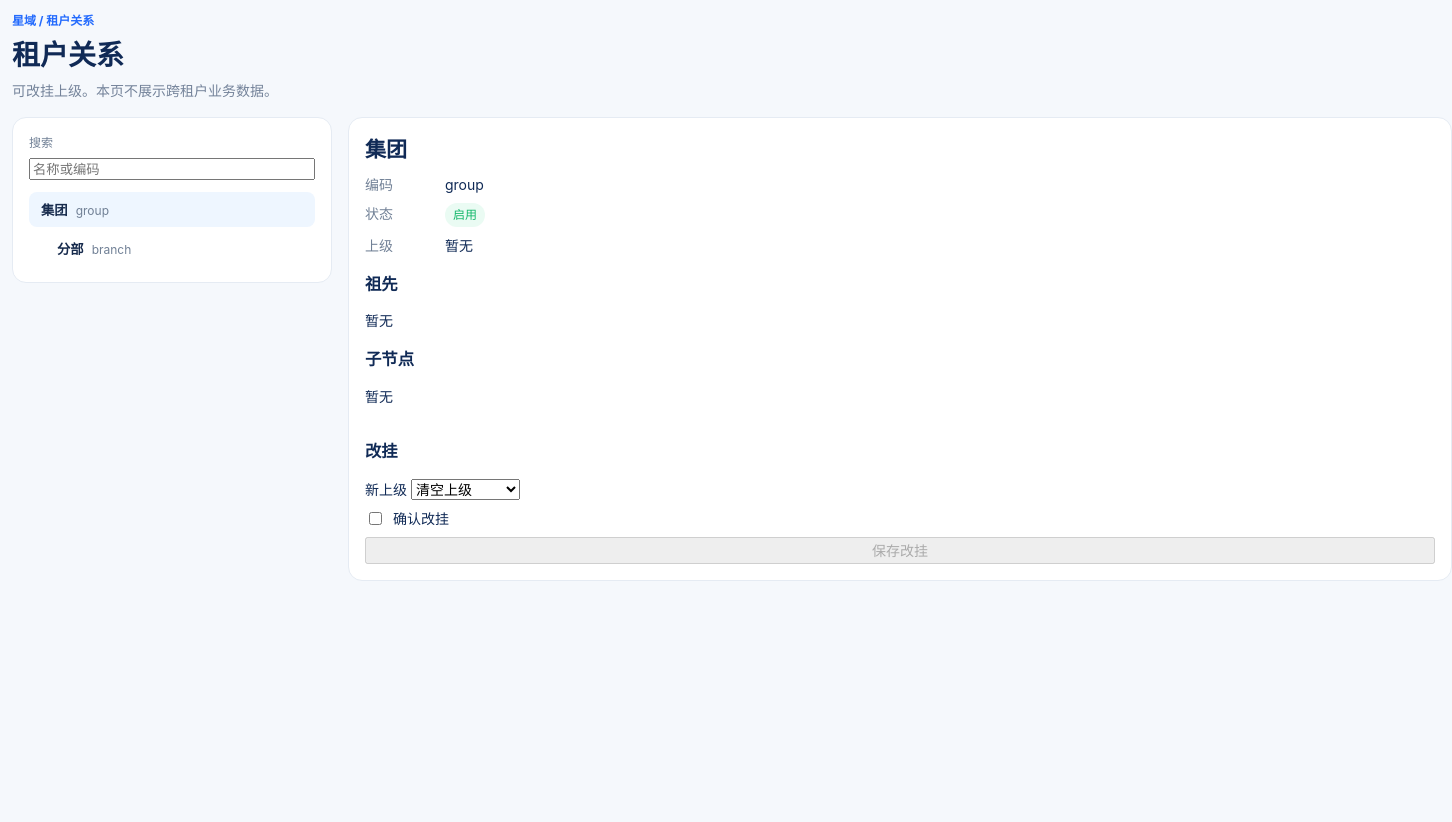
Test: P1 tenant relation page › asks for confirmation and shows the server cycle error
The image size is (1452, 822).
expect the button "保存改挂" is disabled: met, box x1=365 y1=537 x2=1435 y2=564
Step 1. Click the checkbox labelled "确认改挂" → (376, 519), box x1=369 y1=512 x2=382 y2=525
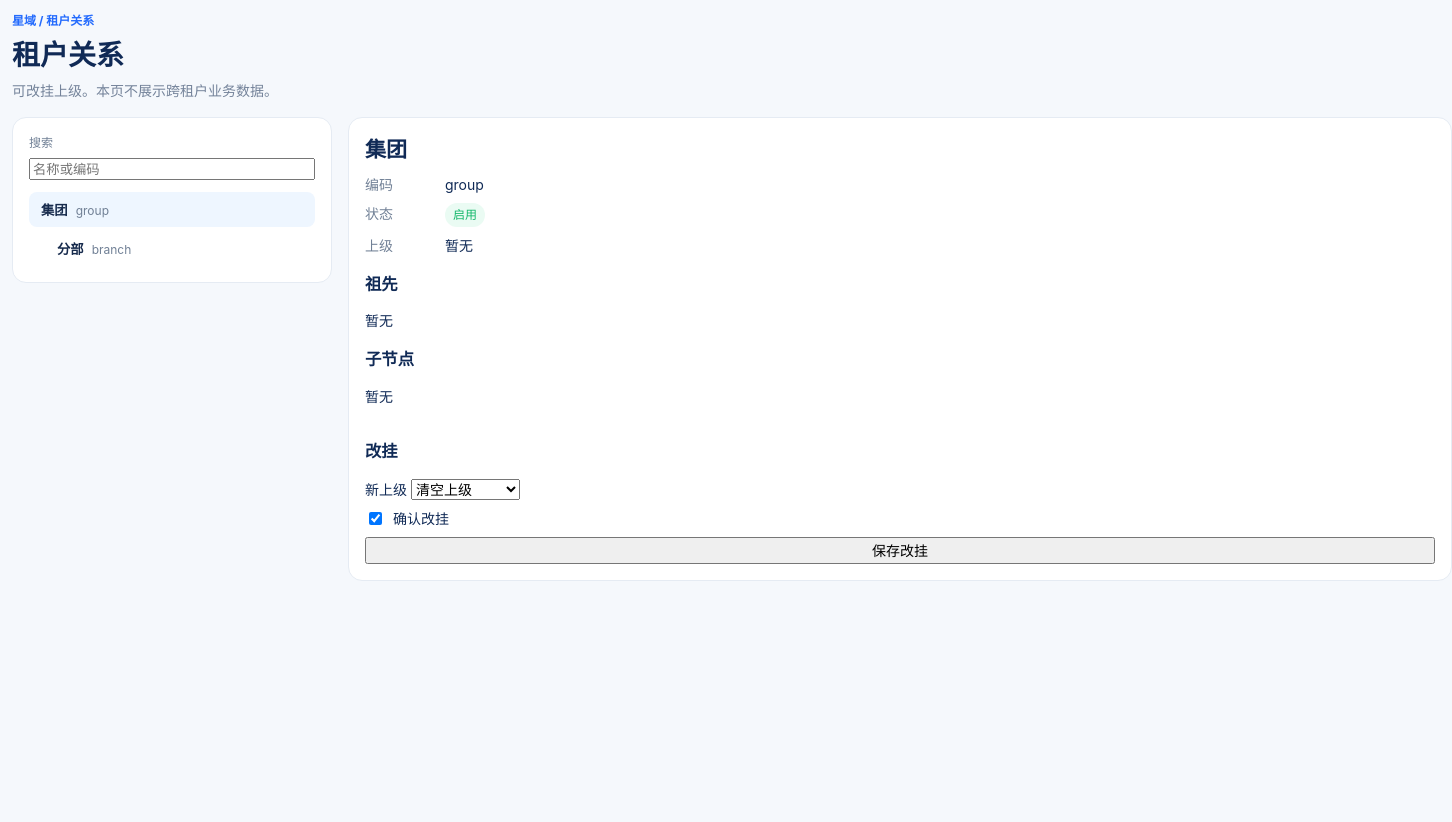
Step 2. Select "分部 · branch" in the dropdown labelled "新上级" → (465, 490), box x1=411 y1=479 x2=520 y2=500
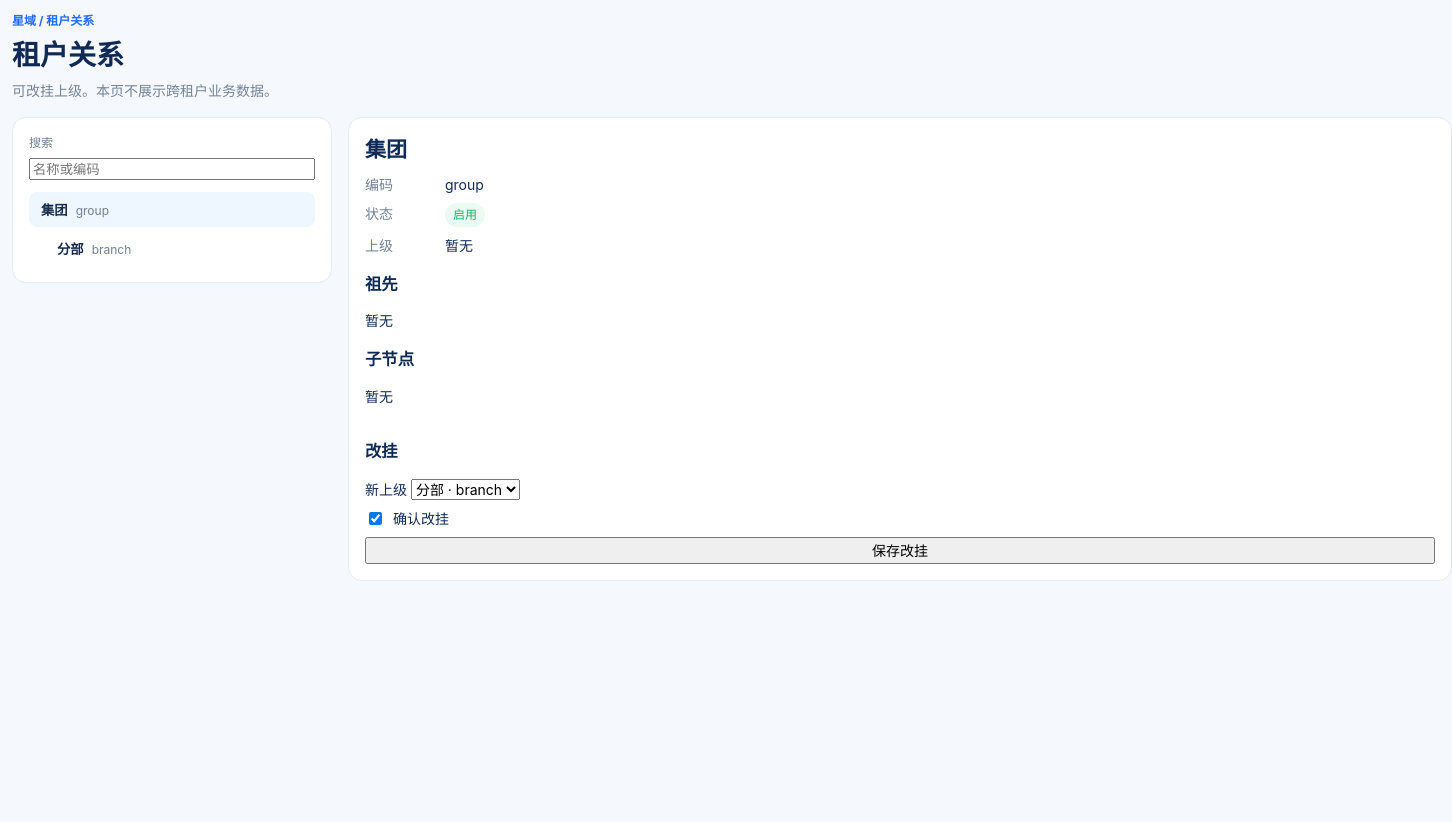
Step 3. Submit the form with test id "reparent-form", box x1=365 y1=423 x2=1435 y2=564
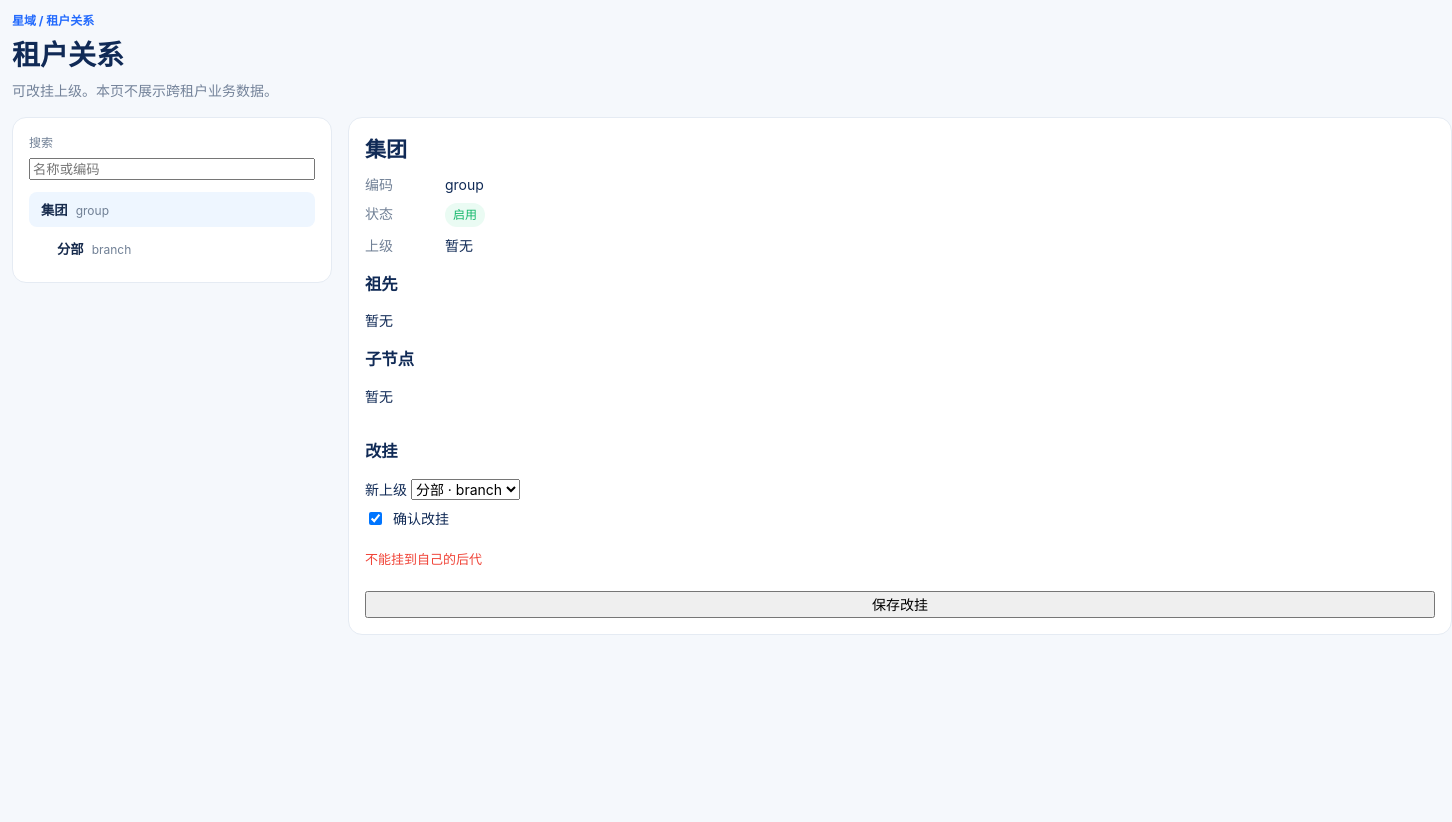
expect the form with test id "reparent-form" shows "不能挂到自己的后代": met, box x1=365 y1=551 x2=482 y2=567
